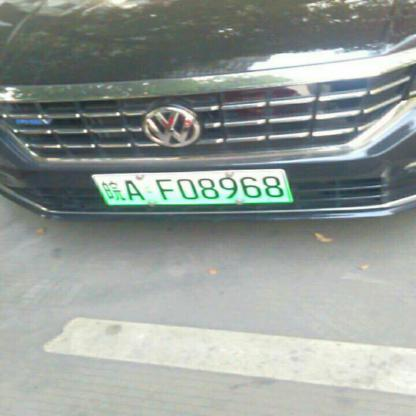lp: (90, 168, 292, 205)
